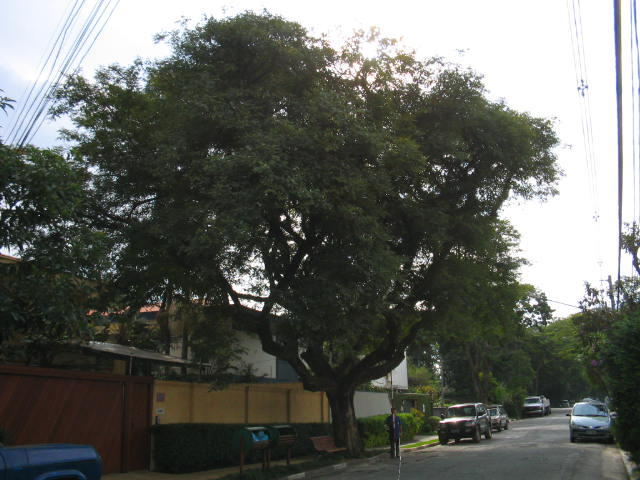crown: (51, 6, 567, 380)
stem: (321, 392, 370, 458)
stick: (387, 367, 400, 457)
tree: (48, 4, 570, 459)
